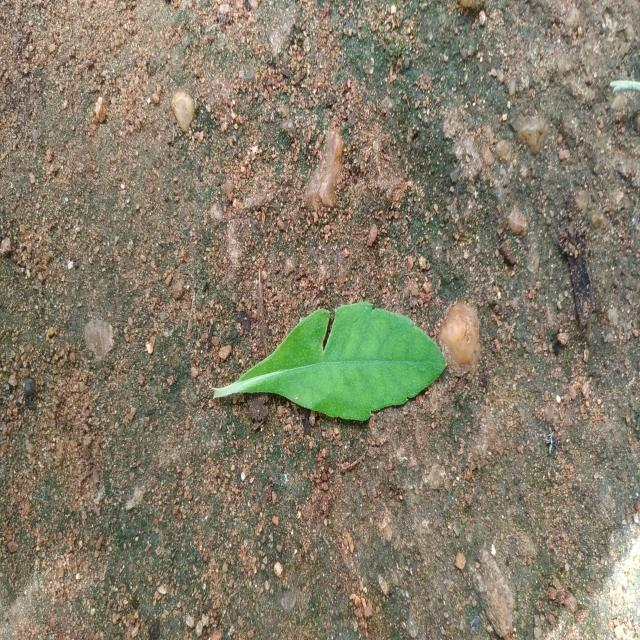bringaraja: (214, 302, 445, 422)
